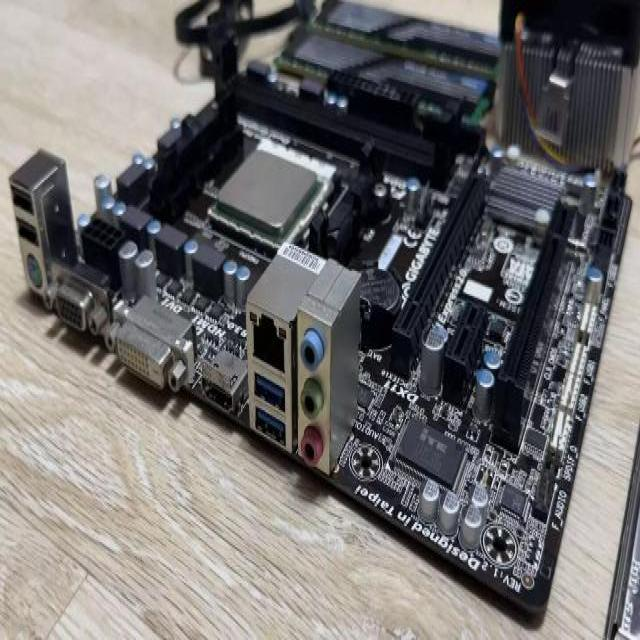CPU: (215, 149, 318, 240)
